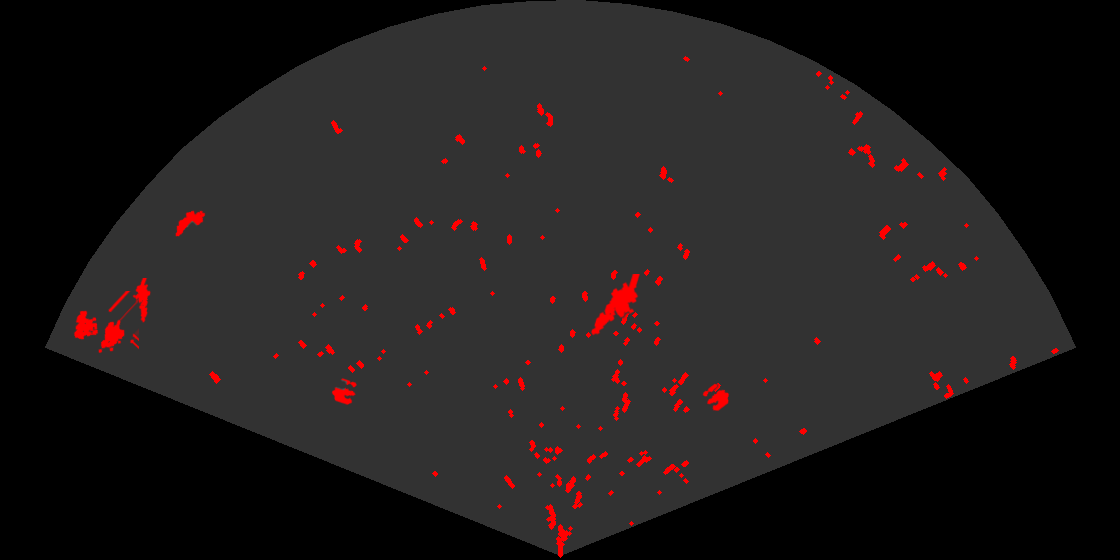AUV: (174, 209, 207, 238)
ball: (701, 382, 731, 413), (330, 377, 358, 406)
cage: (72, 291, 139, 355)
frogman: (589, 274, 641, 338), (131, 278, 152, 323)
